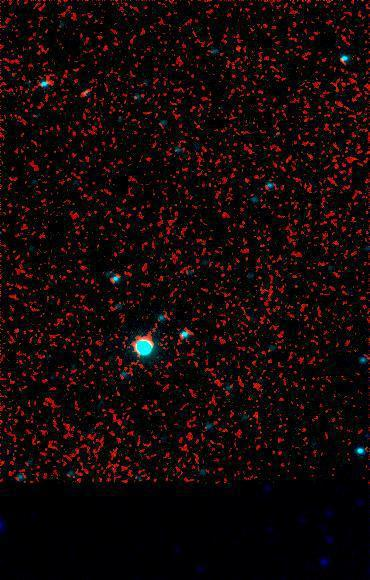star: (223, 36, 253, 66)
